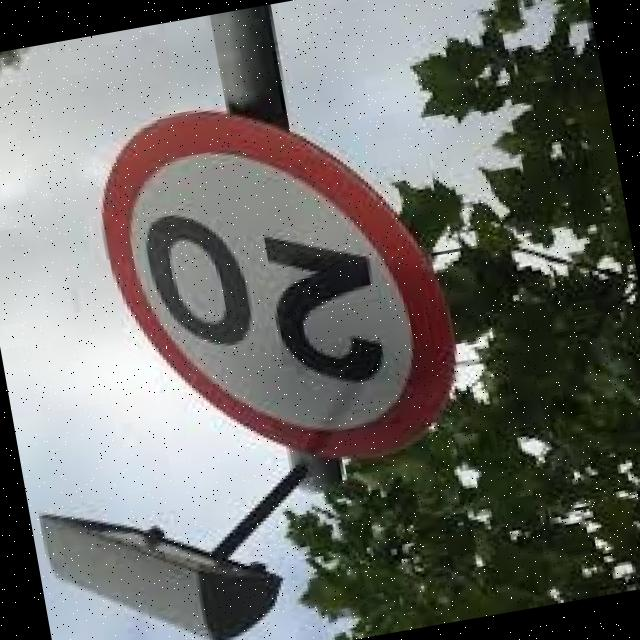speed_limit_20: (72, 61, 499, 526)
